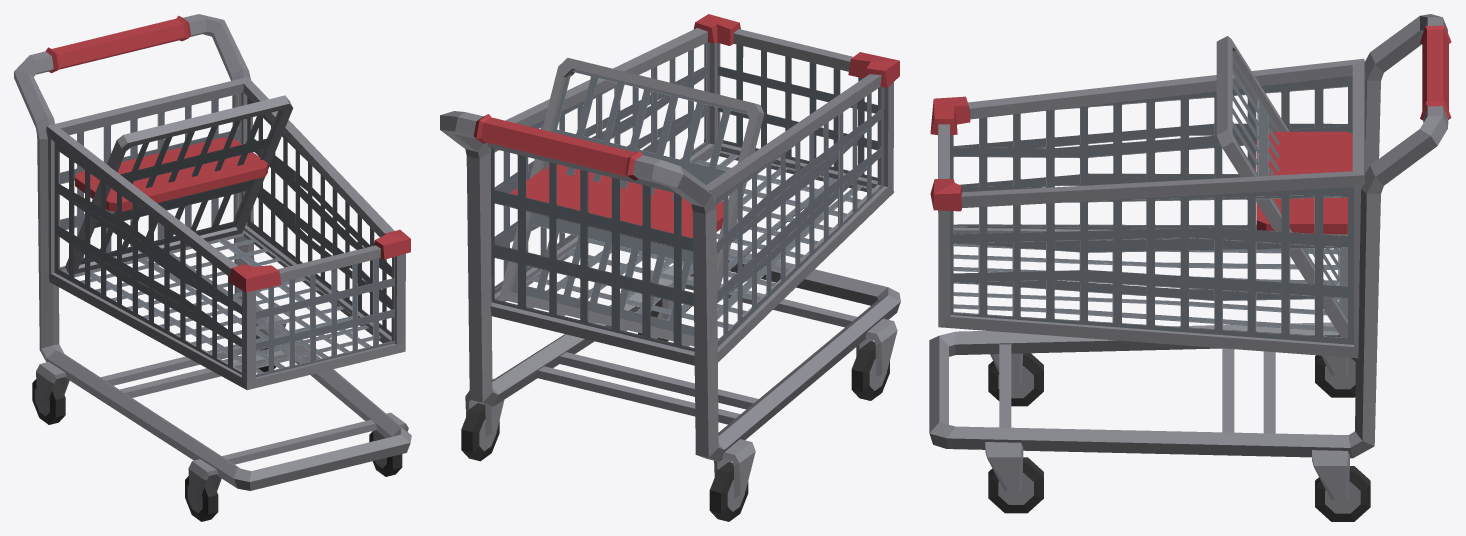
The model's file is Shopping Cart.fbx.
3 renders of one model, left to right at view 1: azimuth 30°, elevation 25°; view 2: azimuth 150°, elevation 25°; view 3: azimuth 270°, elevation 25°, orthographic. The views are drawn at different scales.
Visible parts, largest first — view 1: Shopping_Cart; view 2: Shopping_Cart; view 3: Shopping_Cart.
Boxes of the visible parts, x1,y1,x2,y2 form: Shopping_Cart: [14, 14, 411, 521]; Shopping_Cart: [440, 14, 900, 521]; Shopping_Cart: [929, 14, 1451, 521].
Size of the model in its own units: 84.19 by 113 by 135.
